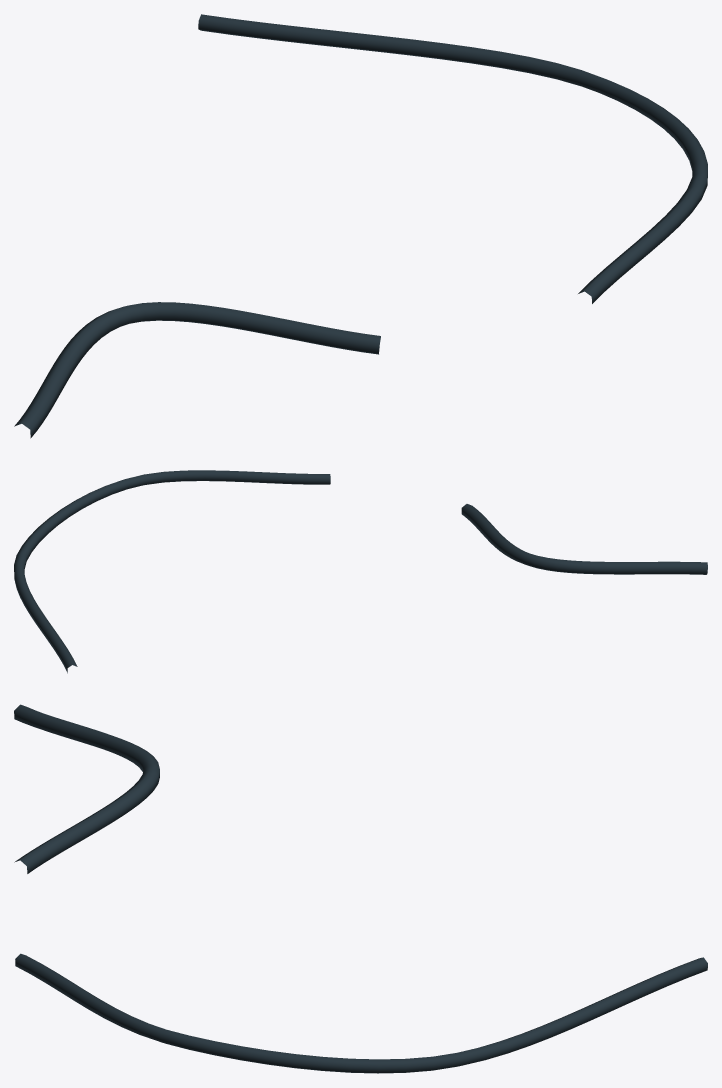
The model's file is keyboard-cables.glb.
The picture shows the model from 3 angles, top to bottom: view 1: azimuth 30°, elevation 25°; view 2: azimuth 150°, elevation 25°; view 3: azimuth 270°, elevation 25°; orthographic projection. The views are drawn at different scales.
Visible parts, largest first — view 1: keyboard-cables; view 2: keyboard-cables; view 3: keyboard-cables.
Part boxes in pixels (x1=…): keyboard-cables: x1=14, y1=14, x2=707, y2=438; keyboard-cables: x1=14, y1=470, x2=707, y2=673; keyboard-cables: x1=14, y1=704, x2=707, y2=1073.
Bounding box in the file's own units: 0.6386 × 0.0351 × 0.5286.
